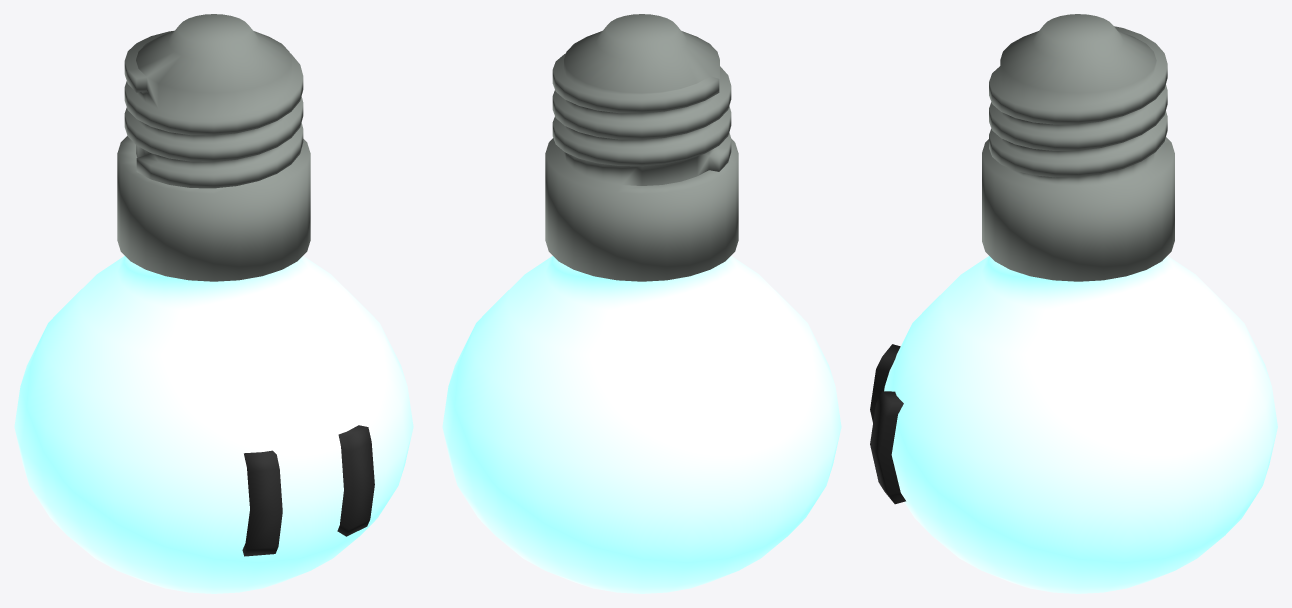
File: lightman.glb
3 views of the same model, side by side, from view 1: azimuth 30°, elevation 25°; view 2: azimuth 150°, elevation 25°; view 3: azimuth 270°, elevation 25° (orthographic).
Parts seen in each view (by area): view 1: Sphere.001; view 2: Sphere.001; view 3: Sphere.001.
Boxes of the visible parts, x1,y1,x2,y2 form: Sphere.001: (14,14,413,593); Sphere.001: (442,14,841,593); Sphere.001: (870,14,1277,593).
Bounding box in the file's own units: 2.06 × 3.09 × 2.1.
